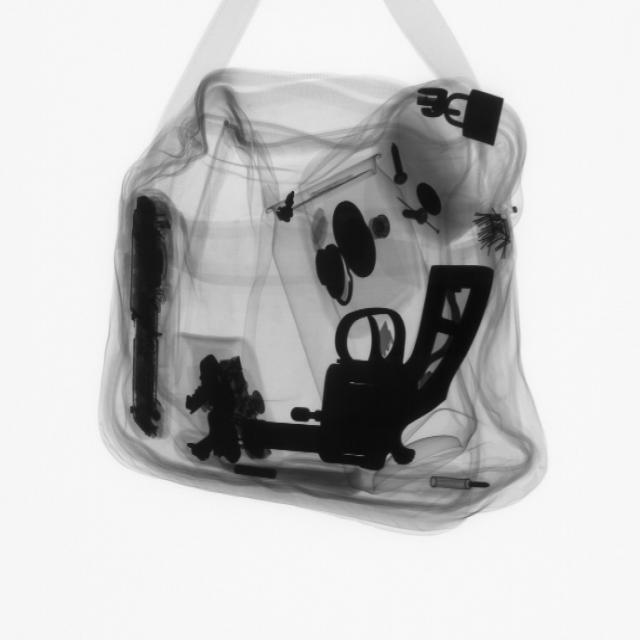GUN: (244, 252, 494, 472)
SCREW: (371, 136, 422, 190), (390, 197, 441, 234)
